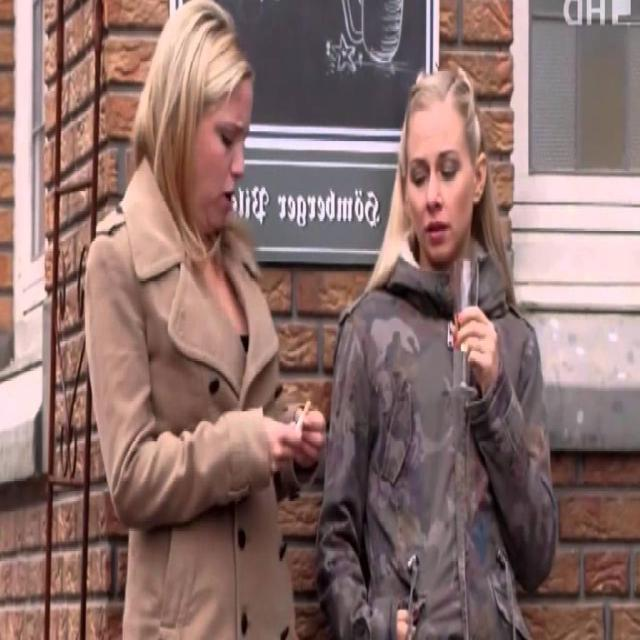smoking: (127, 7, 337, 479)
